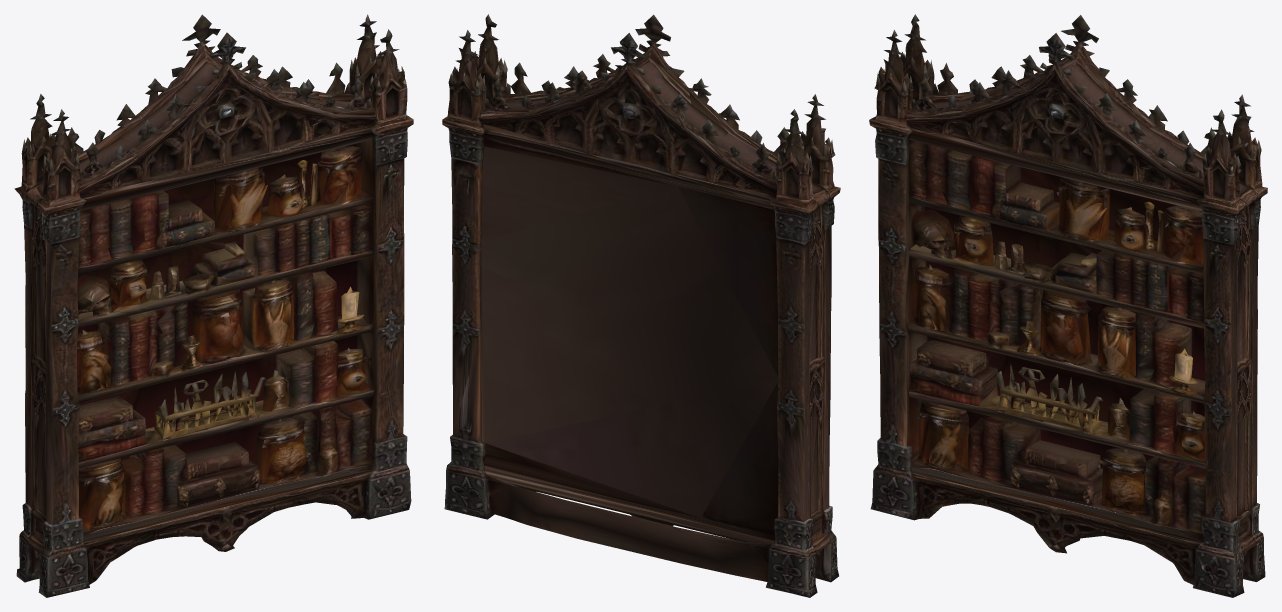
File: shelf_specimens.glb
3 renders of one model, left to right at view 1: azimuth 30°, elevation 25°; view 2: azimuth 150°, elevation 25°; view 3: azimuth 330°, elevation 25°, orthographic.
Parts seen in each view (by area): view 1: shelf_specimens; view 2: shelf_specimens; view 3: shelf_specimens.
Boxes of the visible parts, x1=… form: shelf_specimens: x1=14, y1=14, x2=413, y2=597; shelf_specimens: x1=442, y1=14, x2=840, y2=597; shelf_specimens: x1=869, y1=14, x2=1267, y2=597.
Bounding box in the file's own units: 2.9 × 3.9 × 0.42.
1 material, 1 textured.
